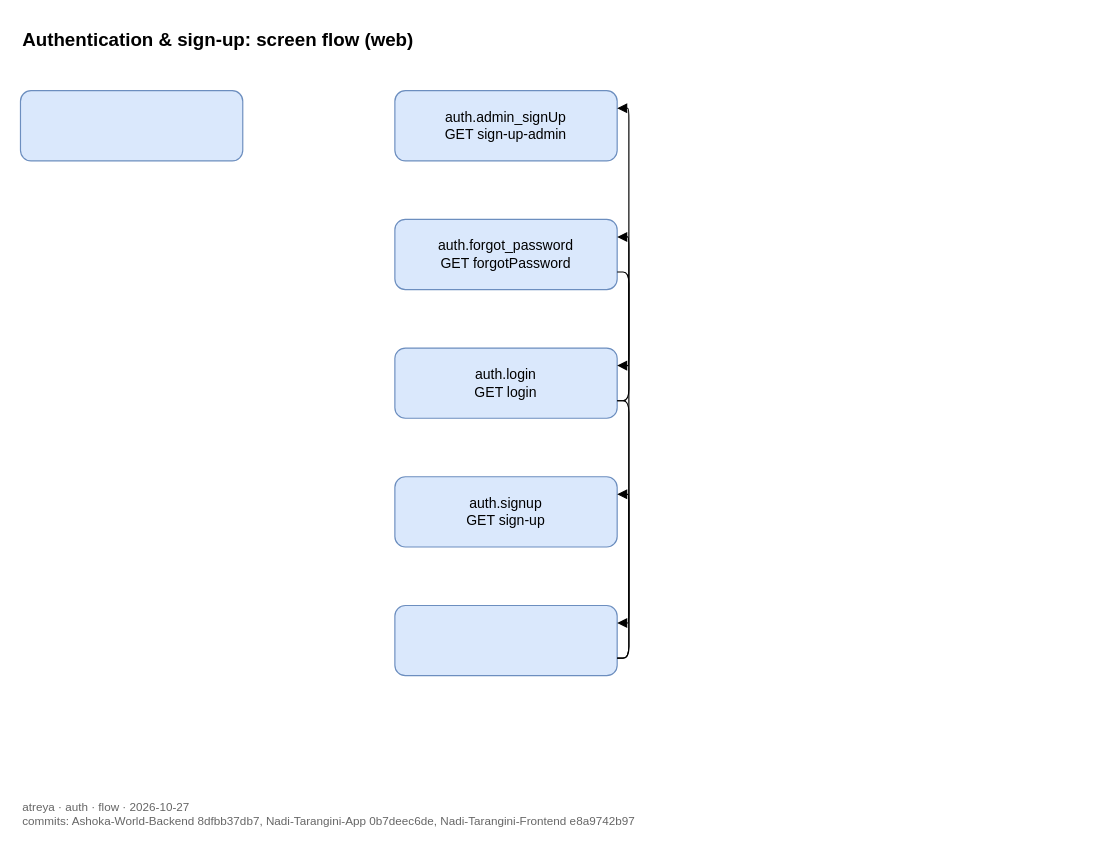
Image size: 1094x854. Some labels were removed from this diagram. Each missing label, with the box of its shape:
auth.college_signUp GET sign-up-college: (19, 90, 243, 161)
auth.tabs GET signup: (394, 604, 617, 676)
